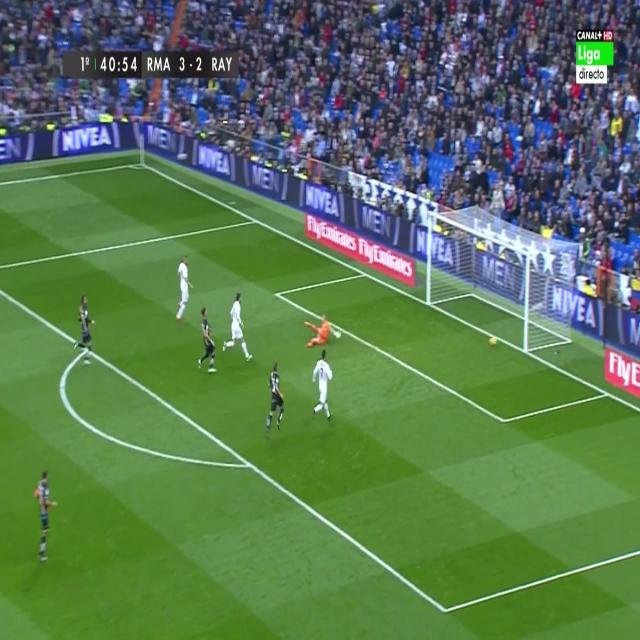Ball: (489, 334, 501, 351)
Goalkeeper: (303, 312, 342, 350)
Player: (33, 464, 59, 564), (221, 290, 254, 368), (311, 348, 336, 426), (73, 291, 97, 368), (264, 361, 286, 440), (175, 254, 196, 328), (196, 304, 217, 377)
